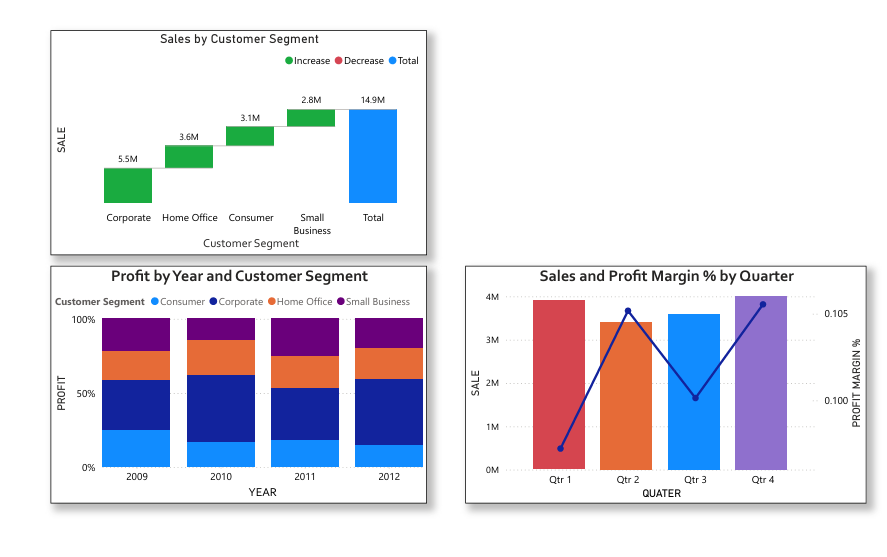

The page's visual inventory and layout, read from the dashboard file:
{"tool":"powerbi","page":{"name":"Page 4","canvas":[1280,720],"ordinal":3},"visuals":[{"type":"waterfallChart","title":"Sales by Customer Segment","fields":{"Category":["Superstore Sales report.Customer Segment"],"Y":["Sum(Superstore Sales report.Sales)"]},"box":[53.7,23.4,502.4,300],"z":0},{"type":"hundredPercentStackedColumnChart","title":" Profit by Year and Customer Segment","fields":{"Category":["Superstore Sales report.Order Date.Variation.Date Hierarchy.Year"],"Y":["Sum(Superstore Sales report.Profit)"],"Series":["Superstore Sales report.Customer Segment"]},"box":[53.7,337.2,502.4,316.6],"z":1000},{"type":"lineClusteredColumnComboChart","title":"Sales and Profit Margin % by Quarter","fields":{"Category":["Superstore Sales report.Order Date.Variation.Date Hierarchy.Quarter"],"Y":["Sum(Superstore Sales report.Sales)"],"Y2":["Superstore Sales report.Profit Margin %"]},"box":[607,337.2,535.4,316.6],"z":2000}]}

Visuals, with their boxes on the page's 1280x720 design canvas (x1, y1, x2, y2). These are canvas units, not pixel positions in the 887x557 screenshot, which may show the page scaled, cropped or inside an application window:
"Sales by Customer Segment" waterfallChart: 54:23:556:323
" Profit by Year and Customer Segment" hundredPercentStackedColumnChart: 54:337:556:654
"Sales and Profit Margin % by Quarter" lineClusteredColumnComboChart: 607:337:1142:654
